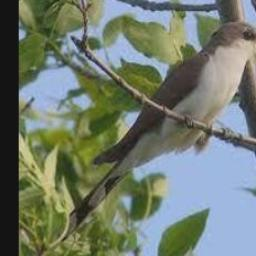Cuckoo: (54, 22, 256, 244)
